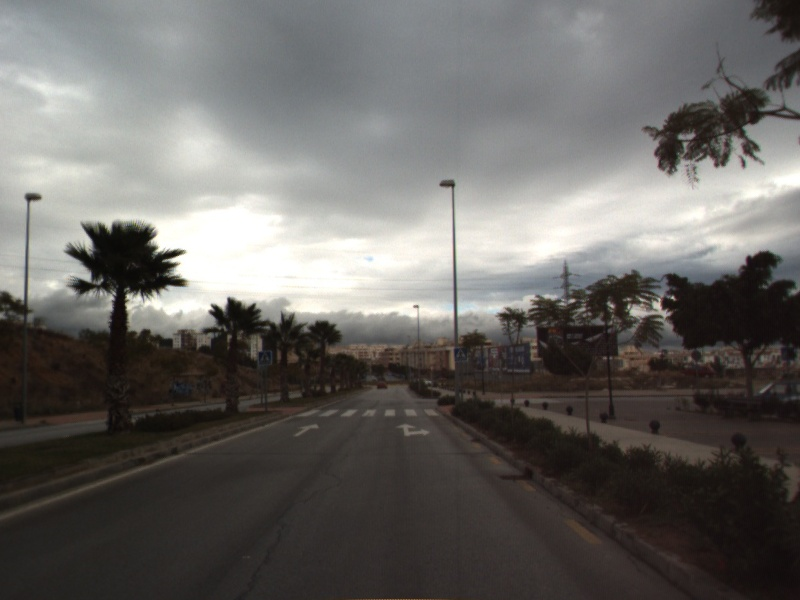STRAIGHT: (291, 422, 322, 438)
STRAIGHT_RIGHT: (394, 421, 432, 438)
